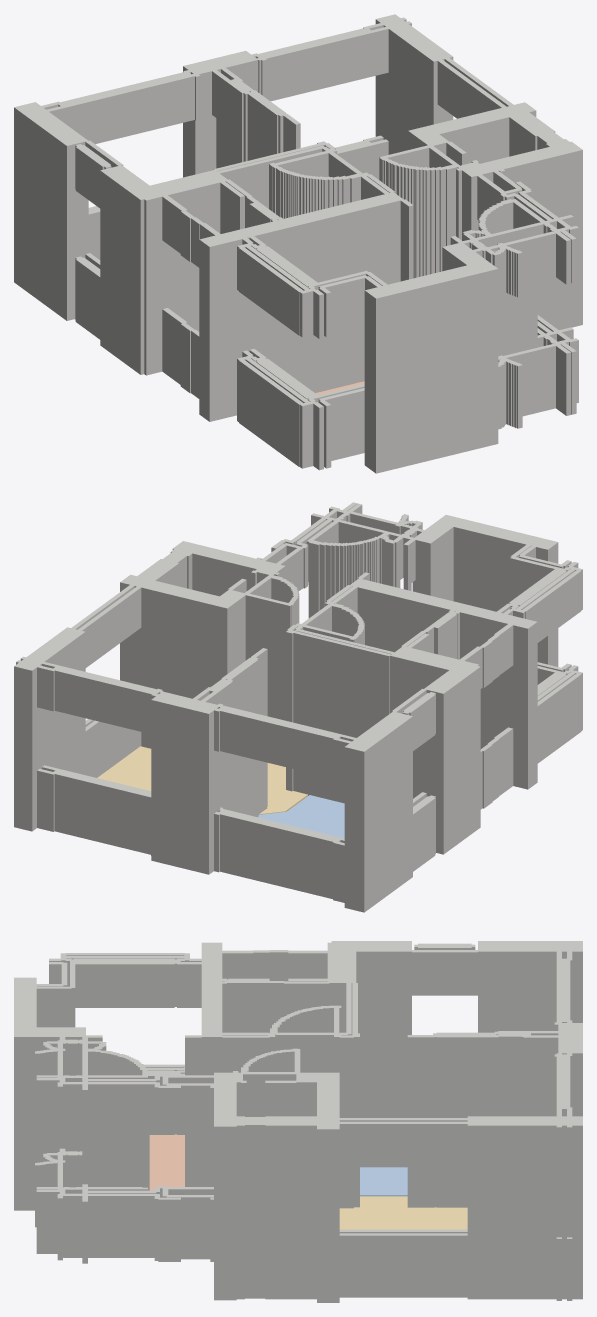
3 renders of one model, top to bottom at view 1: azimuth 30°, elevation 25°; view 2: azimuth 150°, elevation 25°; view 3: azimuth 270°, elevation 25°, orthographic. The views are drawn at different scales.
Parts seen in each view (by area): view 1: walls; view 2: walls, room:living:0, room:bedroom:5; view 3: walls, room:living:0, room:kitchen:4, room:bedroom:5.
Boxes of the visible parts, left/top/right/bottom form: walls: left=14, top=14, right=582, bottom=473; walls: left=14, top=502, right=582, bottom=912; room:living:0: left=97, top=746, right=307, bottom=814; room:bedroom:5: left=258, top=795, right=344, bottom=838; walls: left=14, top=941, right=582, bottom=1302; room:living:0: left=339, top=1196, right=467, bottom=1229; room:kitchen:4: left=149, top=1134, right=184, bottom=1190; room:bedroom:5: left=360, top=1167, right=407, bottom=1196.
Bounding box in the file's own units: 6.5 × 2.8 × 8.31.
